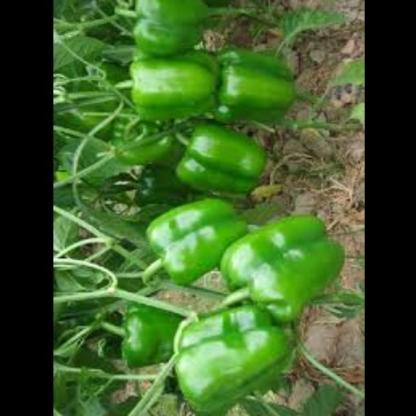bell pepper: (221, 210, 348, 324), (172, 298, 292, 414), (144, 199, 241, 284), (124, 48, 217, 132), (170, 125, 264, 201), (214, 44, 297, 130), (118, 298, 186, 373), (122, 0, 211, 57)
